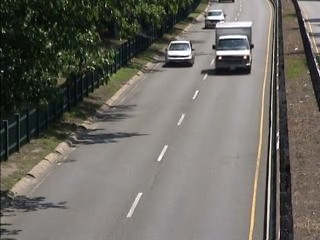car: (165, 41, 198, 70), (203, 9, 228, 32)
truck: (213, 20, 255, 75)
